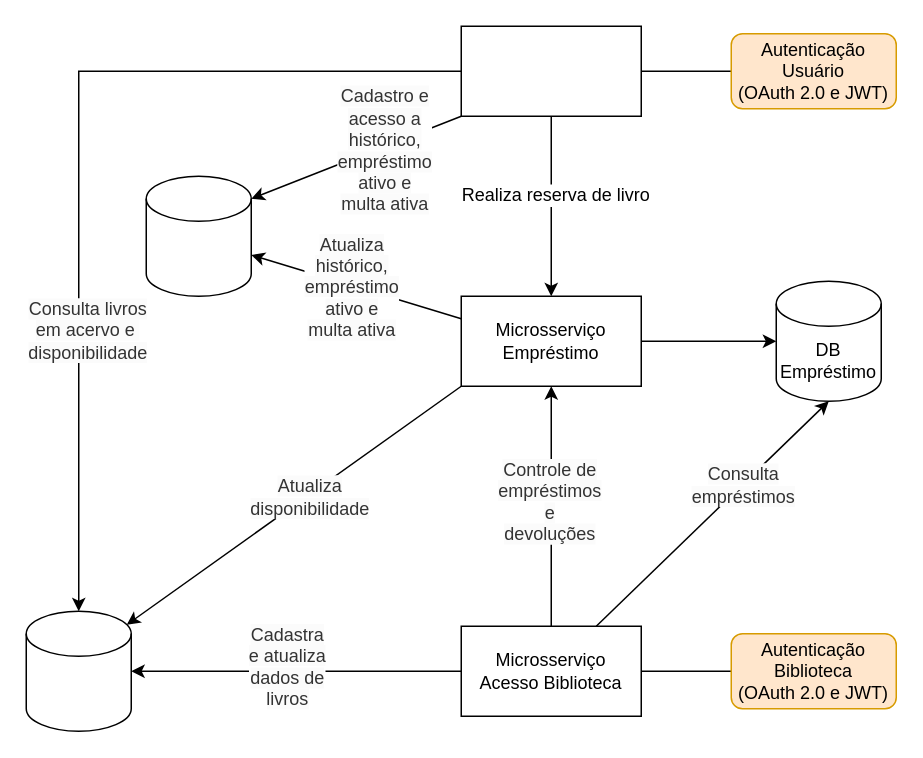
Image size: 923x758. Some labels were removed from this diagram. Each missing label, with the centre of its shape:
"DB Livros" belongs at (78,670).
"DB Usuários" belongs at (198,235).
"Microsserviço Acesso Usuário" belongs at (550,70).
